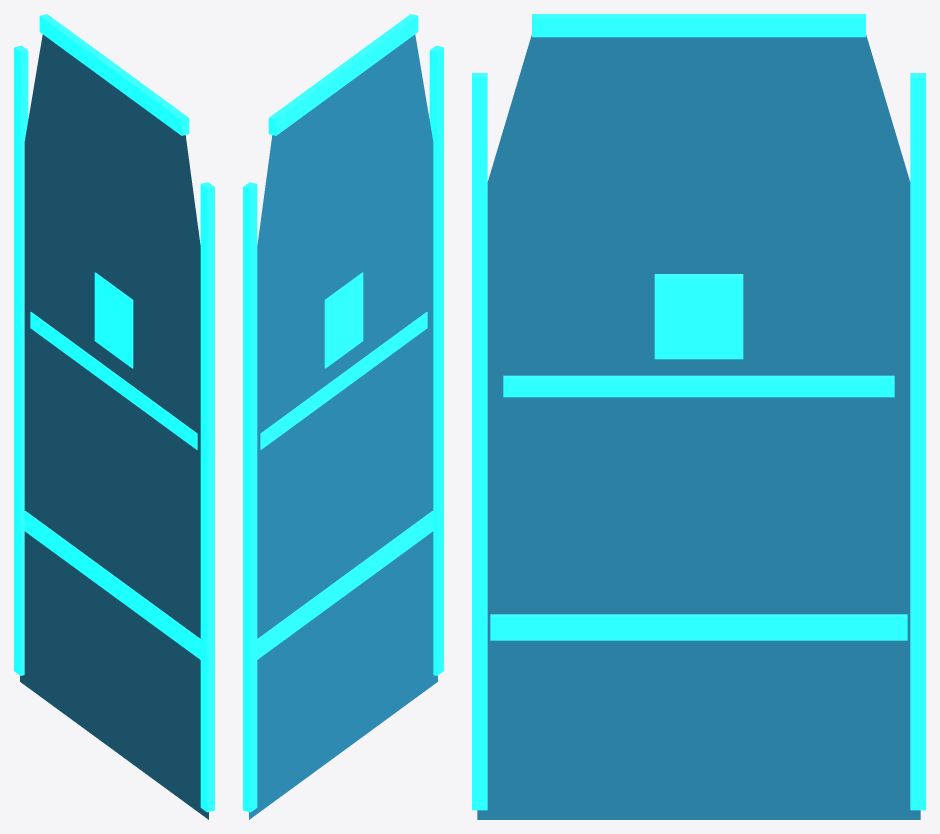
The model's file is SM_GNM_AetherShieldWall_A01.fbx.
3 renders of one model, left to right at view 1: azimuth 30°, elevation 25°; view 2: azimuth 150°, elevation 25°; view 3: azimuth 270°, elevation 25°, orthographic. The views are drawn at different scales.
Parts seen in each view (by area): view 1: ShieldPane_Aetherium_CrescentReviewSurface, ShieldEdge_Aetherium_LeftBand, ShieldEdge_Aetherium_RightBand, ShieldPulse_Aetherium_LowerArc, ShieldEdge_Aetherium_TopBand, ShieldPulse_Aetherium_MidArc, ShieldPulse_Aetherium_ImpactFocus; view 2: ShieldPane_Aetherium_CrescentReviewSurface, ShieldEdge_Aetherium_RightBand, ShieldEdge_Aetherium_LeftBand, ShieldPulse_Aetherium_LowerArc, ShieldEdge_Aetherium_TopBand, ShieldPulse_Aetherium_MidArc, ShieldPulse_Aetherium_ImpactFocus; view 3: ShieldPane_Aetherium_CrescentReviewSurface, ShieldEdge_Aetherium_LeftBand, ShieldEdge_Aetherium_RightBand, ShieldPulse_Aetherium_LowerArc, ShieldPulse_Aetherium_MidArc, ShieldEdge_Aetherium_TopBand, ShieldPulse_Aetherium_ImpactFocus.
Part boxes in pixels (bbox=[...]): ShieldPane_Aetherium_CrescentReviewSurface: bbox=[20, 34, 208, 819]; ShieldEdge_Aetherium_LeftBand: bbox=[200, 182, 214, 812]; ShieldEdge_Aetherium_RightBand: bbox=[14, 45, 28, 675]; ShieldPulse_Aetherium_LowerArc: bbox=[24, 511, 200, 659]; ShieldEdge_Aetherium_TopBand: bbox=[39, 14, 189, 135]; ShieldPulse_Aetherium_MidArc: bbox=[30, 312, 197, 449]; ShieldPulse_Aetherium_ImpactFocus: bbox=[94, 272, 133, 368]; ShieldPane_Aetherium_CrescentReviewSurface: bbox=[249, 34, 437, 819]; ShieldEdge_Aetherium_RightBand: bbox=[243, 182, 257, 812]; ShieldEdge_Aetherium_LeftBand: bbox=[429, 45, 443, 675]; ShieldPulse_Aetherium_LowerArc: bbox=[257, 511, 433, 659]; ShieldEdge_Aetherium_TopBand: bbox=[268, 14, 418, 135]; ShieldPulse_Aetherium_MidArc: bbox=[260, 312, 427, 449]; ShieldPulse_Aetherium_ImpactFocus: bbox=[324, 272, 363, 368]; ShieldPane_Aetherium_CrescentReviewSurface: bbox=[477, 34, 920, 819]; ShieldEdge_Aetherium_LeftBand: bbox=[472, 73, 487, 810]; ShieldEdge_Aetherium_RightBand: bbox=[910, 73, 925, 810]; ShieldPulse_Aetherium_LowerArc: bbox=[490, 614, 907, 640]; ShieldPulse_Aetherium_MidArc: bbox=[503, 375, 894, 397]; ShieldEdge_Aetherium_TopBand: bbox=[532, 14, 865, 37]; ShieldPulse_Aetherium_ImpactFocus: bbox=[654, 274, 743, 359].
Bounding box in the file's own units: 17400 × 650 × 34000.
